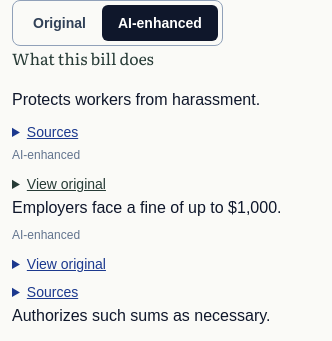
Test: unified reader › enhances in place, retains unmatched money, and exposes original and source
Check: the text "Protects workers from harassment." is shown, box x1=12 y1=91 x2=260 y2=108
Check: the text "Original summary." is not shown
Click the heading "View original" below "Employers face a fine of up to $1,000." at x=66, y=264, box x1=27 y1=256 x2=106 y2=272
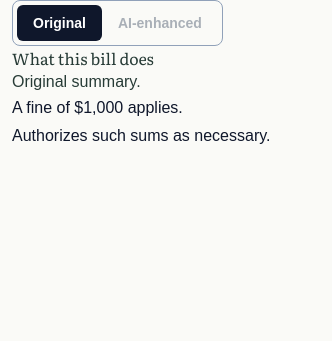
Check: the text "A fine of $1,000 applies." is shown, box x1=12 y1=99 x2=183 y2=116
Check: the text "Protects workers from harassment." is gone
Check: the text "Original summary." is shown, box x1=12 y1=73 x2=141 y2=90
